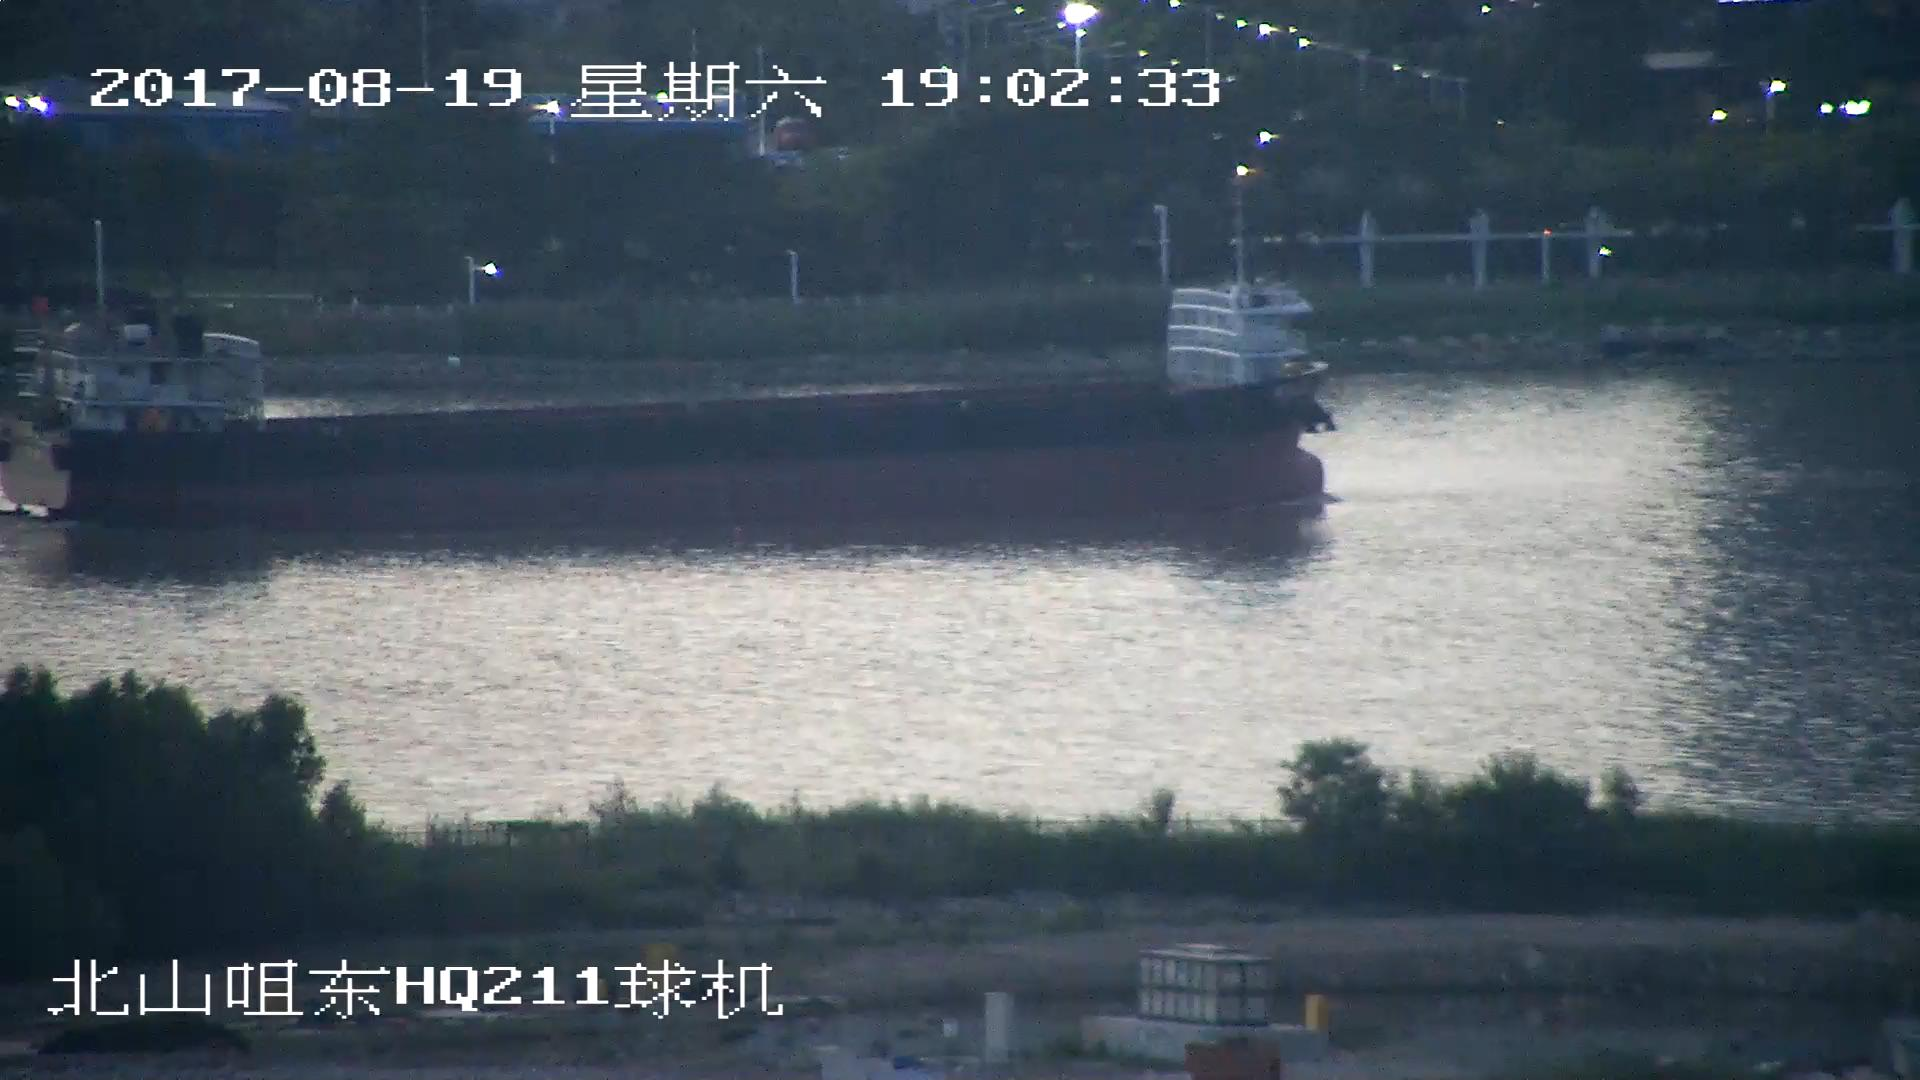general cargo ship: (1, 266, 1336, 524)
